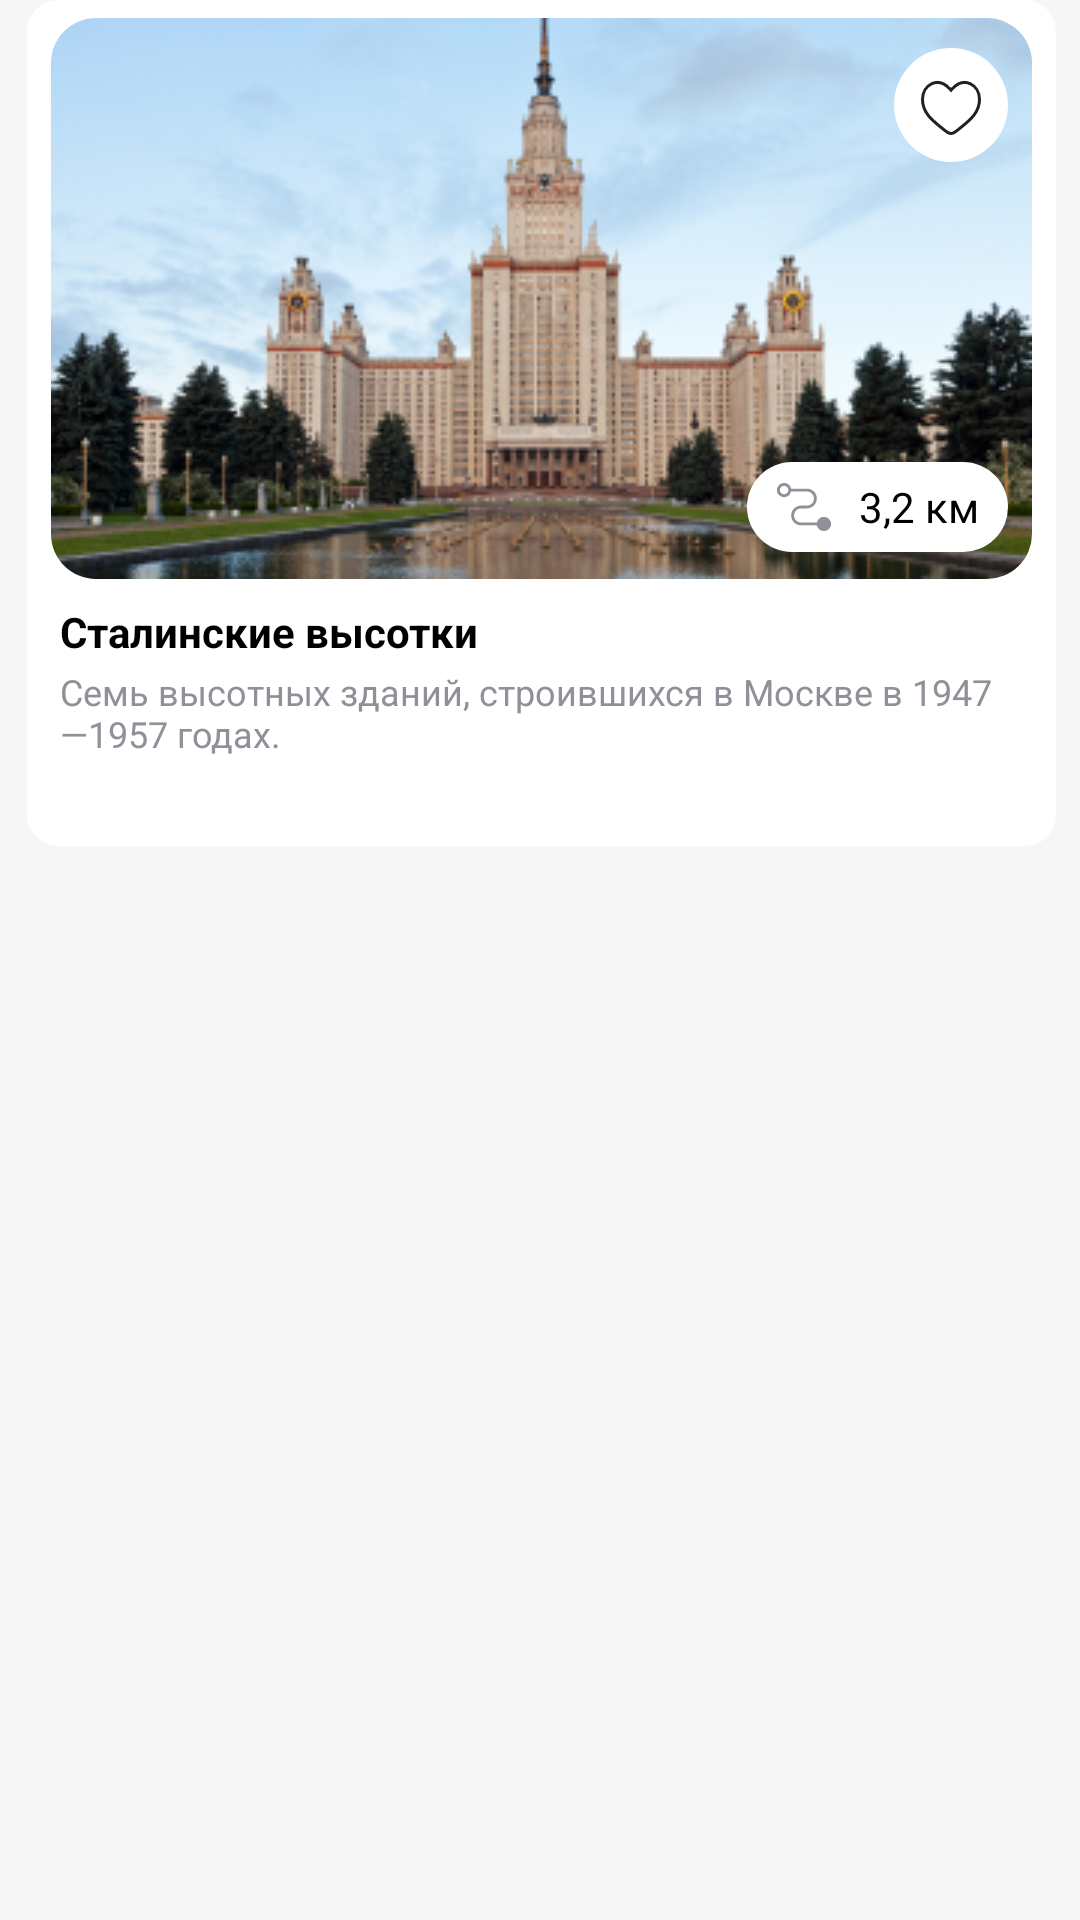

Named icons in this screenshot (1080x1920) and their bounding boxes, box=[x1, y1, x2, y2]:
toggle favorites: box=[894, 48, 1008, 162]
